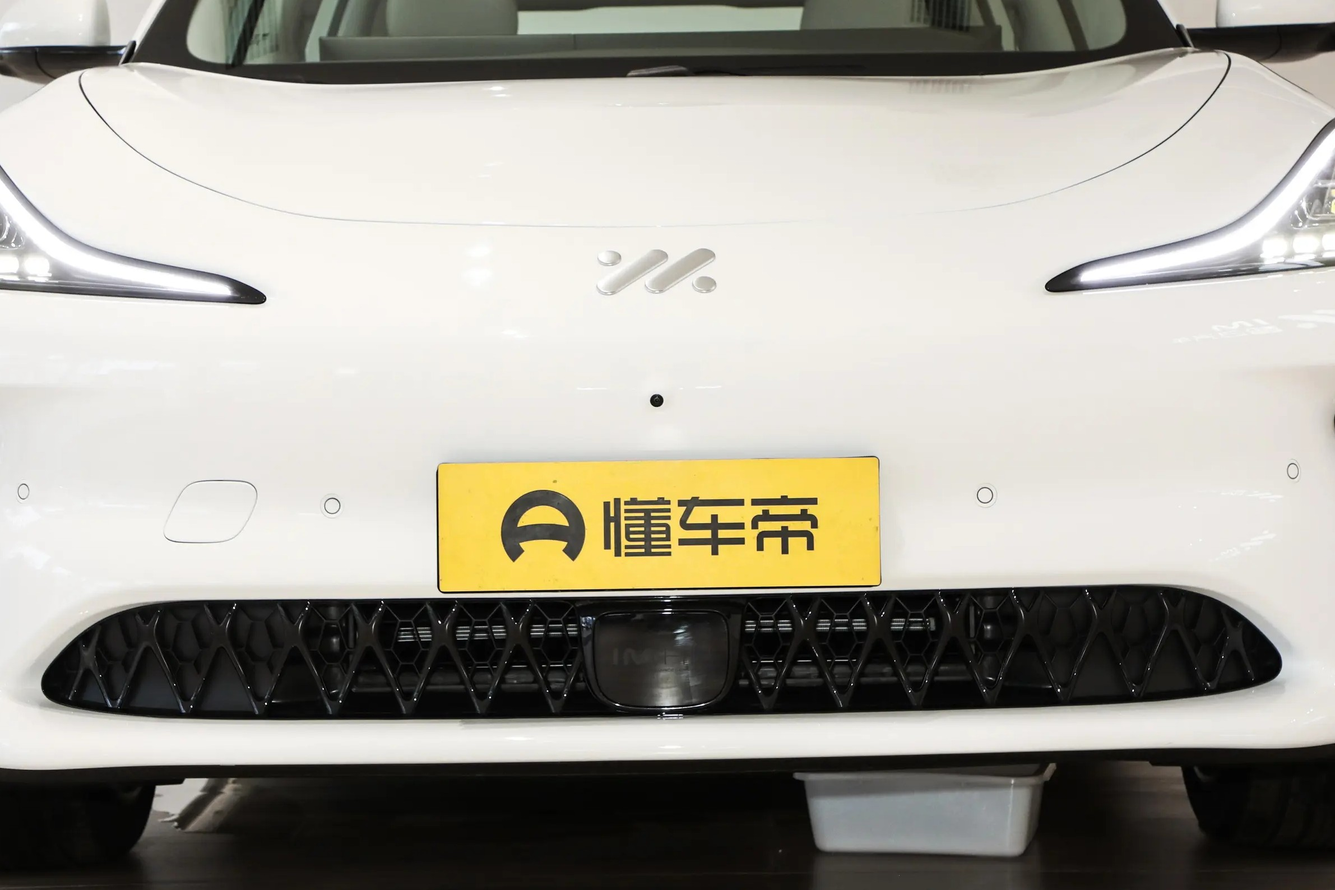IM: (596, 248, 716, 295)
